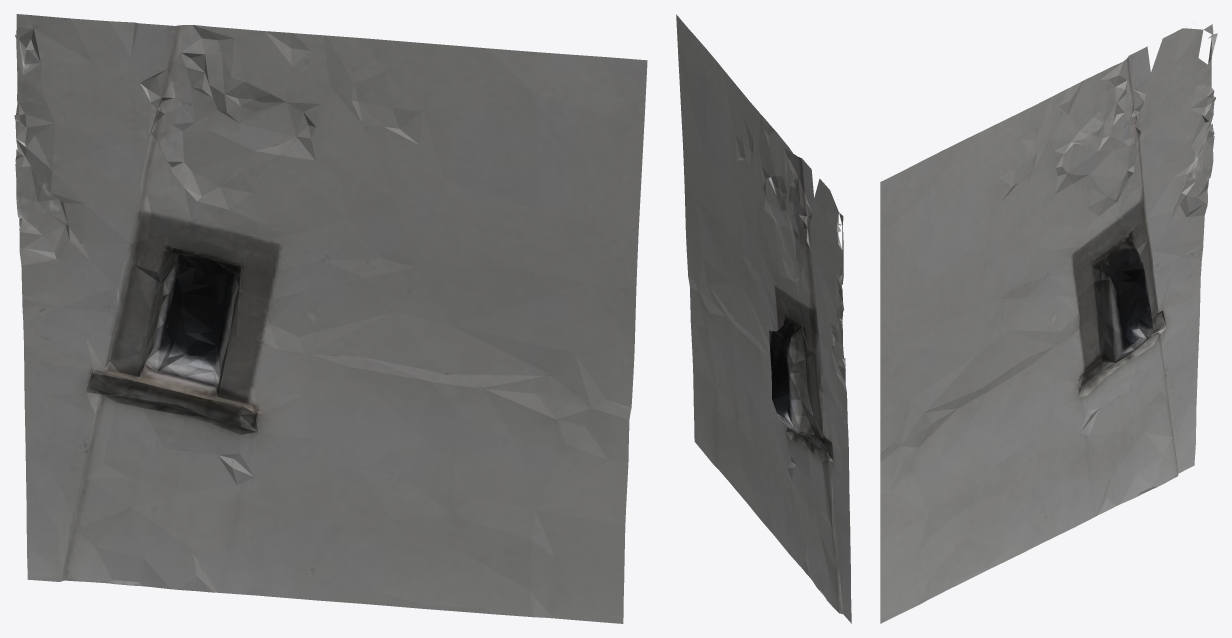
3 views of the same model, side by side, from view 1: azimuth 30°, elevation 25°; view 2: azimuth 150°, elevation 25°; view 3: azimuth 270°, elevation 25° (orthographic). The views are drawn at different scales.
Size of the model in its own units: 2.67 by 3.35 by 2.27.
2 materials, 2 textured.
